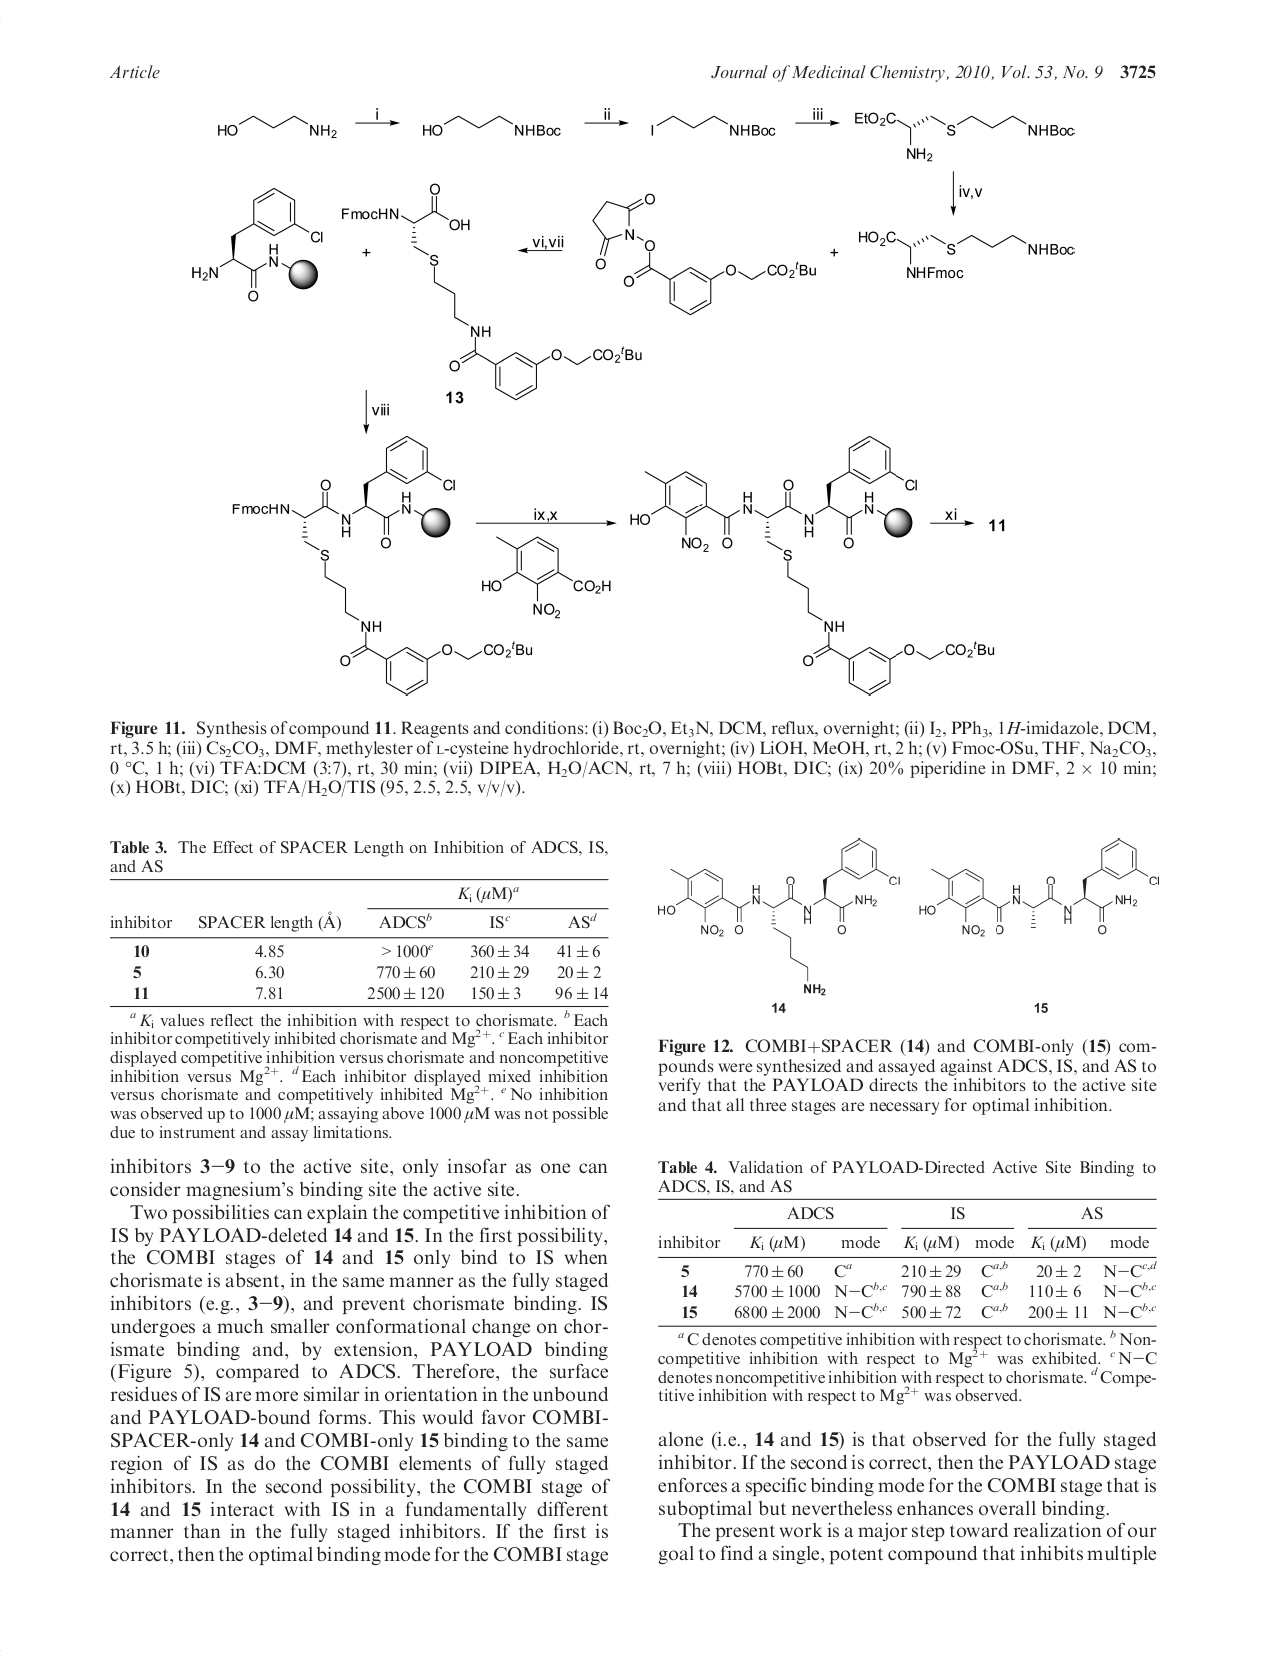exist_molecular: (622, 431, 1004, 700), (223, 432, 539, 701), (332, 182, 646, 403), (654, 834, 910, 996), (914, 822, 1164, 958), (580, 188, 821, 321), (180, 181, 332, 305), (844, 101, 1082, 165), (851, 223, 1077, 282), (471, 529, 616, 620), (404, 105, 573, 153), (211, 100, 342, 146), (652, 106, 781, 148)
